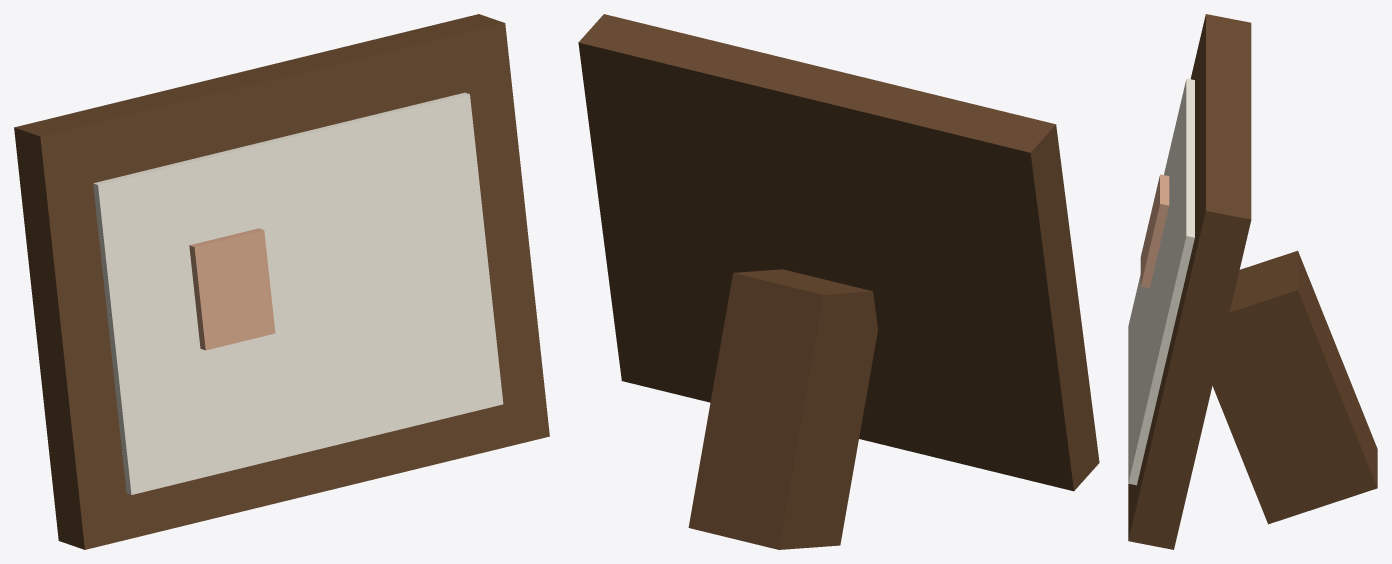
File: GD_PhotoFrame_01.glb
3 views of the same model, side by side, from view 1: azimuth 30°, elevation 25°; view 2: azimuth 150°, elevation 25°; view 3: azimuth 270°, elevation 25° (orthographic). The views are drawn at different scales.
Parts seen in each view (by area): view 1: GD_PhotoFrame_01; view 2: GD_PhotoFrame_01; view 3: GD_PhotoFrame_01.
Part boxes in pixels (x1,y1,x2,y2): GD_PhotoFrame_01: (14, 14, 549, 549); GD_PhotoFrame_01: (578, 14, 1099, 549); GD_PhotoFrame_01: (1128, 14, 1377, 549).
Size of the model in its own units: 0.2 by 0.1859 by 0.107.
1 material, 1 textured.
